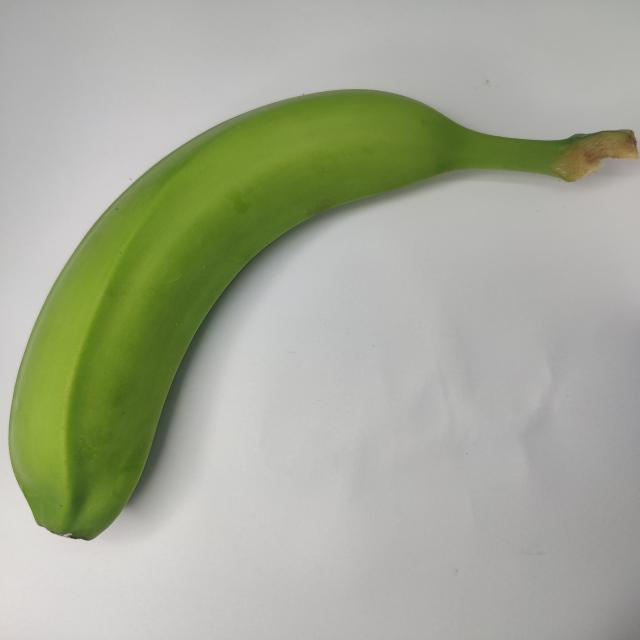raw: (0, 64, 640, 544)
